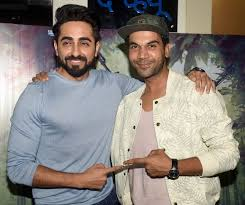Bad: (7, 4, 240, 205)
